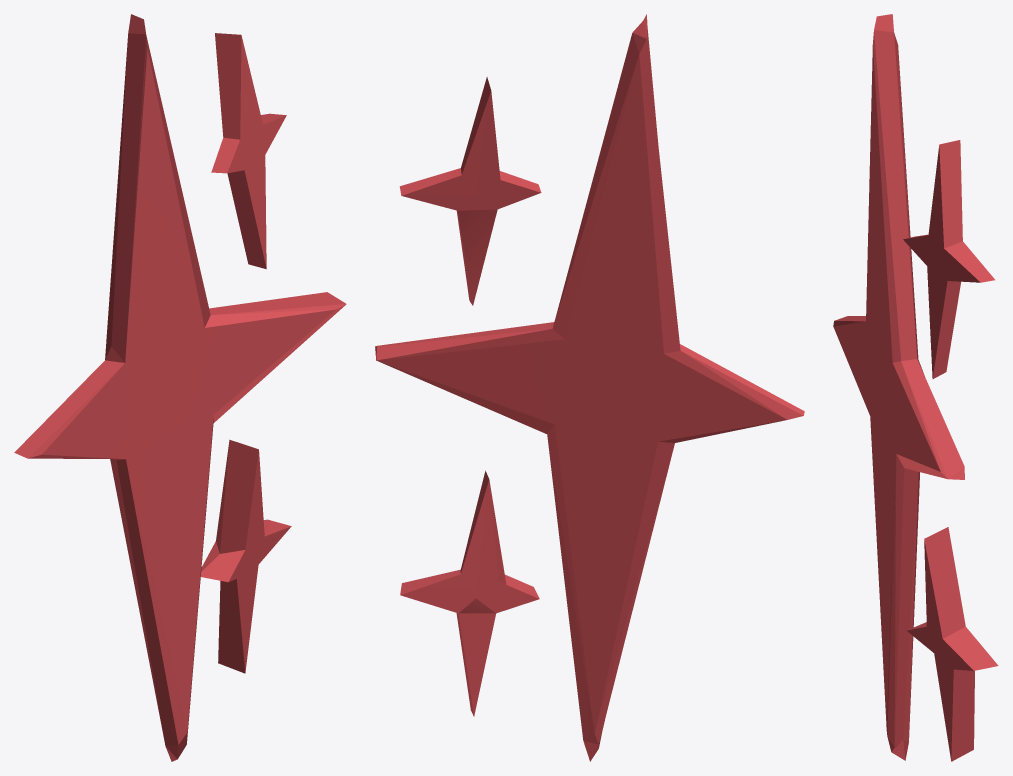
The model's file is skelly_sparkles.fbx.
3 renders of one model, left to right at view 1: azimuth 30°, elevation 25°; view 2: azimuth 150°, elevation 25°; view 3: azimuth 270°, elevation 25°, orthographic. The views are drawn at different scales.
Parts seen in each view (by area): view 1: skelly_sparkles; view 2: skelly_sparkles; view 3: skelly_sparkles.
Part boxes in pixels (x1,y1,x2,y2): skelly_sparkles: (14,14,346,761); skelly_sparkles: (375,14,804,761); skelly_sparkles: (833,14,998,761).
Bounding box in the file's own units: 5.97 × 11.31 × 2.34.
